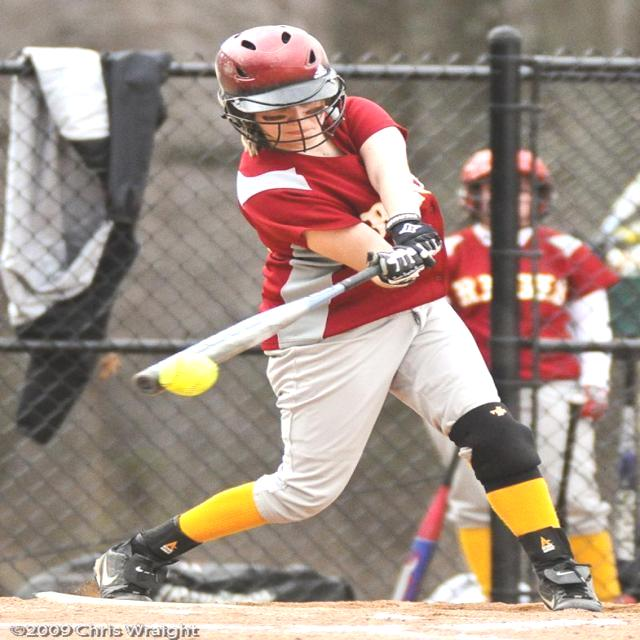baseball bat: (133, 264, 384, 398)
